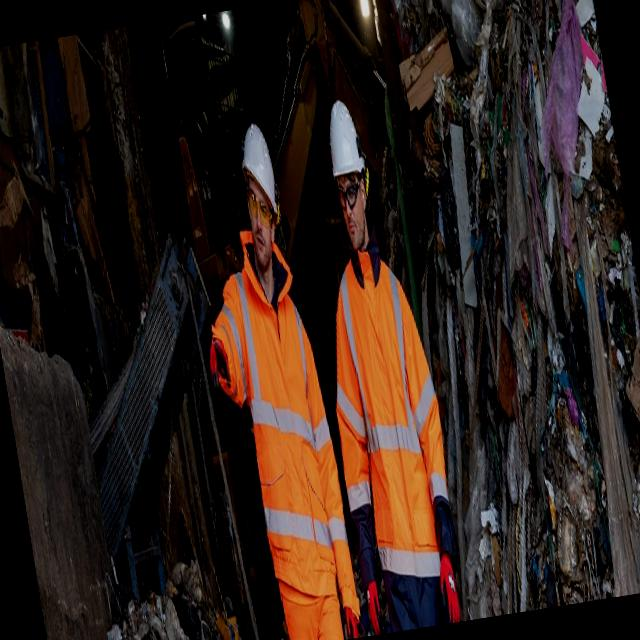goggles: (242, 180, 280, 237), (329, 169, 372, 219)
helmet: (231, 112, 286, 235), (318, 96, 375, 211)
vest: (313, 230, 466, 624), (228, 273, 366, 640)
